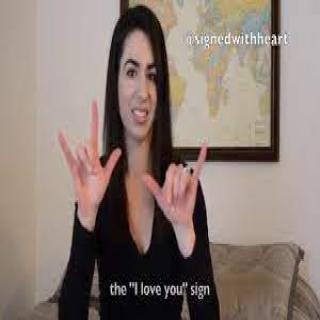I Love You: (54, 96, 120, 217)
